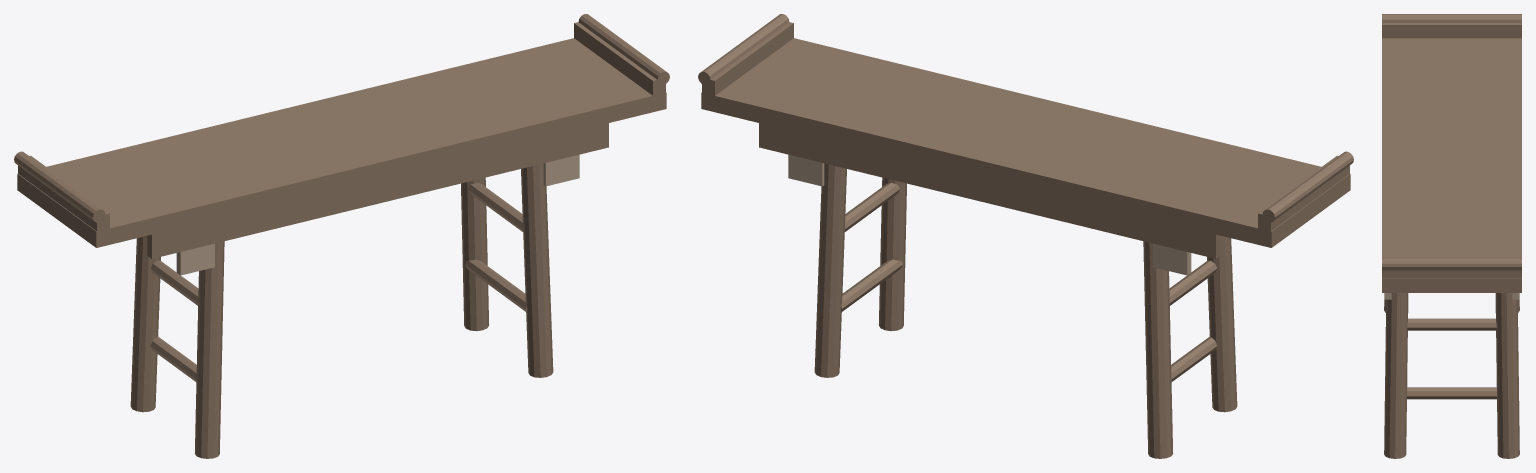
Rendered from prop_altar_table.glb.
The picture shows the model from 3 angles, left to right: view 1: azimuth 30°, elevation 25°; view 2: azimuth 150°, elevation 25°; view 3: azimuth 270°, elevation 25°; orthographic projection. The views are drawn at different scales.
Visible parts, largest first — view 1: prop_altar_table/altar_table_top_00000, prop_altar_table/altar_apron_front_00009, prop_altar_table/altar_leg_00007, prop_altar_table/altar_leg_00005, prop_altar_table/altar_leg_00006, prop_altar_table/altar_leg_00008, prop_altar_table/altar_flange_body_00003, prop_altar_table/altar_flange_scroll_00002, prop_altar_table/altar_flange_scroll_00004, prop_altar_table/altar_flange_body_00001, prop_altar_table/altar_side_stretcher_00017, prop_altar_table/altar_side_stretcher_00018 (+4 smaller); view 2: prop_altar_table/altar_table_top_00000, prop_altar_table/altar_apron_front_00012, prop_altar_table/altar_leg_00008, prop_altar_table/altar_leg_00006, prop_altar_table/altar_leg_00005, prop_altar_table/altar_leg_00007, prop_altar_table/altar_flange_body_00003, prop_altar_table/altar_flange_scroll_00002, prop_altar_table/altar_flange_scroll_00004, prop_altar_table/altar_flange_body_00001, prop_altar_table/altar_side_stretcher_00017, prop_altar_table/altar_side_stretcher_00018 (+4 smaller); view 3: prop_altar_table/altar_table_top_00000, prop_altar_table/altar_leg_00007, prop_altar_table/altar_leg_00008, prop_altar_table/altar_flange_body_00001, prop_altar_table/altar_flange_scroll_00004, prop_altar_table/altar_flange_scroll_00002, prop_altar_table/altar_flange_body_00003, prop_altar_table/altar_side_stretcher_00017, prop_altar_table/altar_side_stretcher_00018.
Part boxes in pixels (x1,y1,x2,y2): prop_altar_table/altar_table_top_00000: (17, 38, 666, 247); prop_altar_table/altar_apron_front_00009: (147, 123, 608, 258); prop_altar_table/altar_leg_00007: (521, 163, 553, 377); prop_altar_table/altar_leg_00005: (194, 241, 224, 458); prop_altar_table/altar_leg_00006: (130, 236, 160, 412); prop_altar_table/altar_leg_00008: (461, 177, 488, 331); prop_altar_table/altar_flange_body_00003: (574, 22, 665, 95); prop_altar_table/altar_flange_scroll_00002: (14, 151, 105, 222); prop_altar_table/altar_flange_scroll_00004: (578, 14, 669, 84); prop_altar_table/altar_flange_body_00001: (18, 155, 109, 231); prop_altar_table/altar_side_stretcher_00017: (465, 259, 526, 312); prop_altar_table/altar_side_stretcher_00018: (467, 182, 523, 231); prop_altar_table/altar_table_top_00000: (701, 38, 1350, 247); prop_altar_table/altar_apron_front_00012: (759, 123, 1220, 258); prop_altar_table/altar_leg_00008: (814, 163, 846, 377); prop_altar_table/altar_leg_00006: (1143, 241, 1173, 458); prop_altar_table/altar_leg_00005: (1207, 236, 1237, 412); prop_altar_table/altar_leg_00007: (879, 177, 906, 331); prop_altar_table/altar_flange_body_00003: (702, 22, 793, 95); prop_altar_table/altar_flange_scroll_00002: (1262, 151, 1353, 222); prop_altar_table/altar_flange_scroll_00004: (698, 14, 789, 84); prop_altar_table/altar_flange_body_00001: (1258, 155, 1349, 231); prop_altar_table/altar_side_stretcher_00017: (841, 259, 902, 312); prop_altar_table/altar_side_stretcher_00018: (844, 182, 900, 231); prop_altar_table/altar_table_top_00000: (1382, 38, 1521, 292); prop_altar_table/altar_leg_00007: (1384, 293, 1408, 458); prop_altar_table/altar_leg_00008: (1495, 293, 1519, 458); prop_altar_table/altar_flange_body_00001: (1382, 23, 1521, 38); prop_altar_table/altar_flange_scroll_00004: (1382, 257, 1521, 270); prop_altar_table/altar_flange_scroll_00002: (1382, 14, 1521, 22); prop_altar_table/altar_flange_body_00003: (1382, 270, 1521, 278); prop_altar_table/altar_side_stretcher_00017: (1406, 387, 1497, 399); prop_altar_table/altar_side_stretcher_00018: (1407, 318, 1496, 330).
Bounding box in the file's own units: 2.02 × 0.9333 × 0.48.
